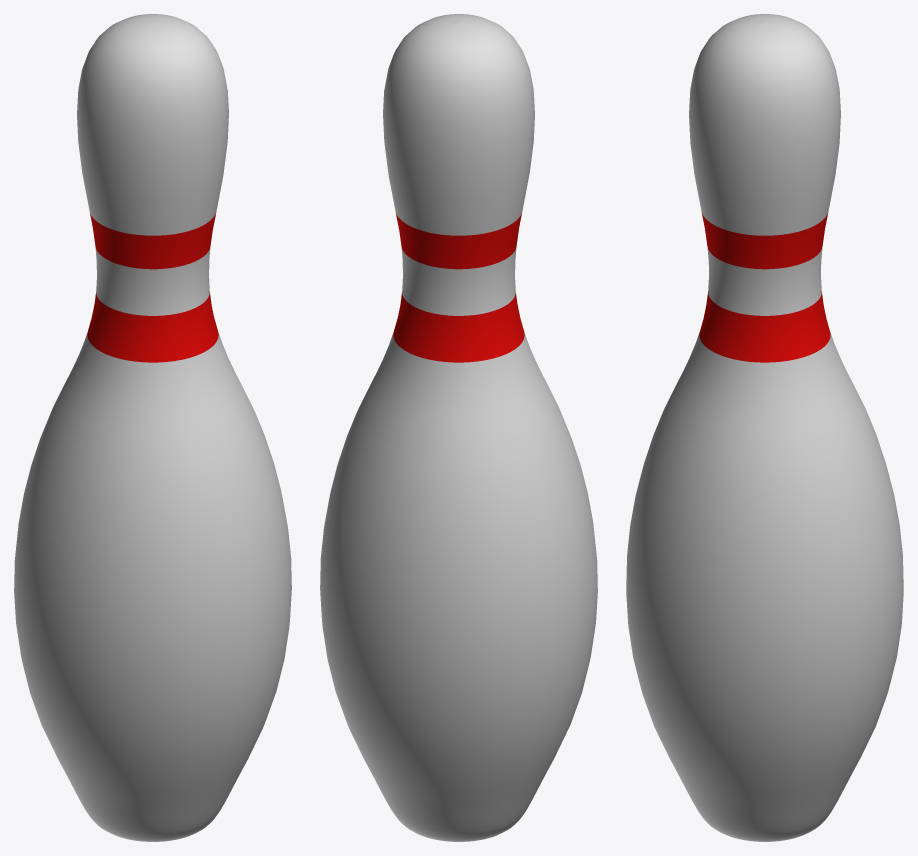
The model's file is Bowling Pin.fbx.
3 renders of one model, left to right at view 1: azimuth 30°, elevation 25°; view 2: azimuth 150°, elevation 25°; view 3: azimuth 270°, elevation 25°, orthographic.
Visible parts, largest first — view 1: BezierCurve; view 2: BezierCurve; view 3: BezierCurve.
Boxes of the visible parts, x1,y1,x2,y2 form: BezierCurve: (14,14,291,841); BezierCurve: (320,14,597,841); BezierCurve: (626,14,903,841).
Bounding box in the file's own units: 137 × 436 × 137.
